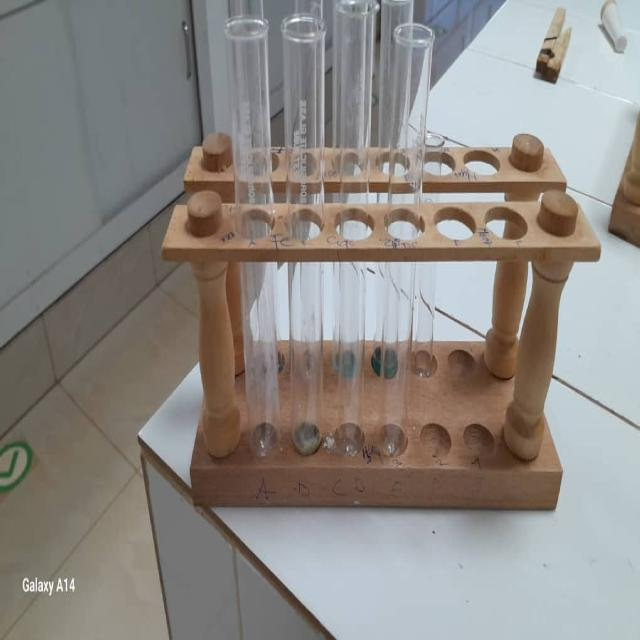Test Tube Racks: (156, 22, 608, 518)
